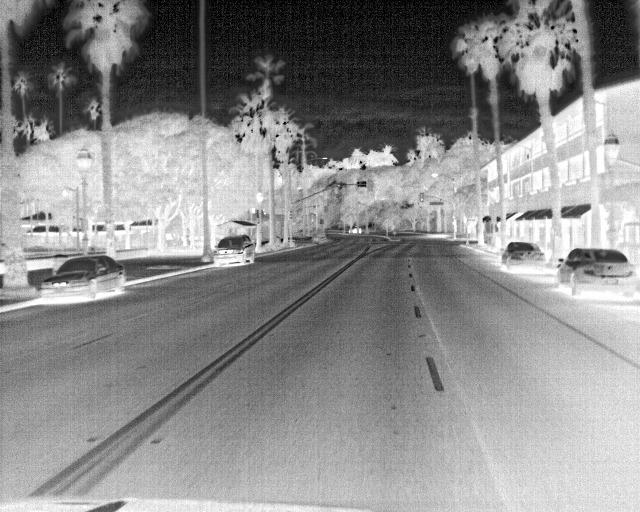car: (556, 245, 637, 299), (38, 253, 125, 303), (211, 234, 256, 268), (498, 239, 545, 270)
